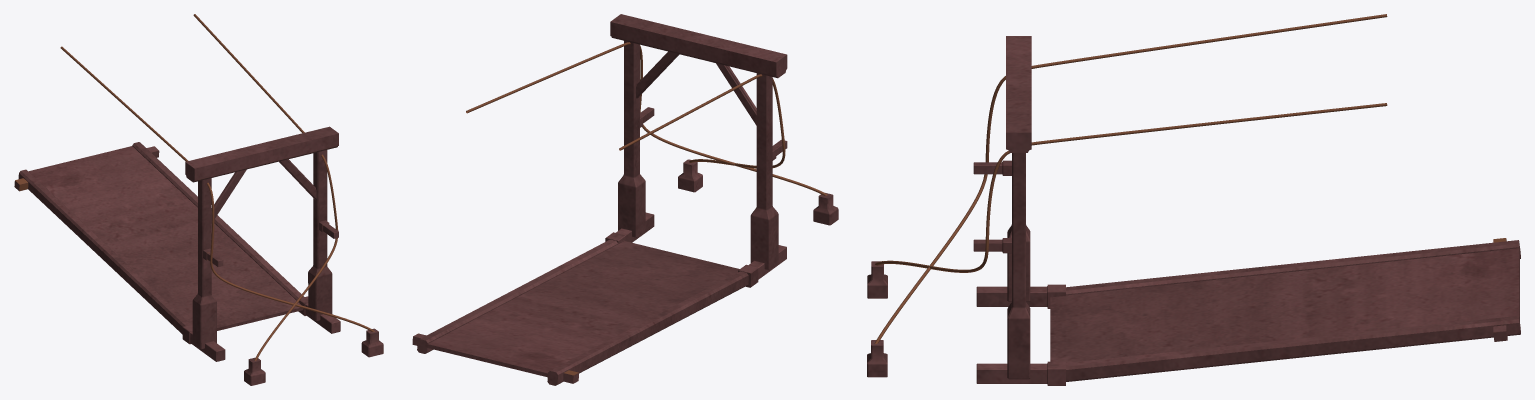
Rendered from brigebrige.fbx.
The picture shows the model from 3 angles, left to right: view 1: azimuth 30°, elevation 25°; view 2: azimuth 150°, elevation 25°; view 3: azimuth 270°, elevation 25°; orthographic projection. The views are drawn at different scales.
Parts seen in each view (by area): view 1: tikuonnki_0020:tikuonnki_0015:pCube47, polySurface46, polySurface48, polySurface51; view 2: tikuonnki_0020:tikuonnki_0015:pCube47, polySurface46, polySurface51, polySurface48; view 3: tikuonnki_0020:tikuonnki_0015:pCube47, polySurface46, polySurface48, polySurface51.
Boxes of the visible parts, box(x1,y1,x2,y2) form: tikuonnki_0020:tikuonnki_0015:pCube47: box(14, 142, 304, 334); polySurface46: box(182, 126, 383, 385); polySurface48: box(60, 46, 294, 305); polySurface51: box(193, 14, 338, 304); tikuonnki_0020:tikuonnki_0015:pCube47: box(412, 239, 748, 385); polySurface46: box(605, 14, 838, 287); polySurface51: box(466, 42, 735, 165); polySurface48: box(619, 74, 785, 168); tikuonnki_0020:tikuonnki_0015:pCube47: box(1050, 238, 1520, 381); polySurface46: box(867, 36, 1065, 385); polySurface48: box(929, 14, 1387, 266); polySurface51: box(929, 103, 1387, 272).
Size of the model in its own units: 57.01 by 78.57 by 163.
Materials: 1 (1 with a texture image).
